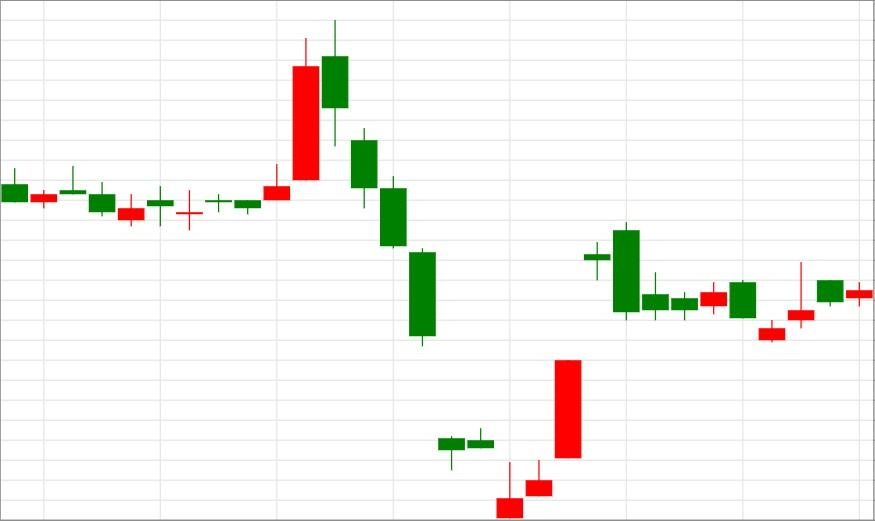inverse_hammer_rise: (321, 19, 524, 519)
three_black_crows_fall: (176, 20, 407, 249)
